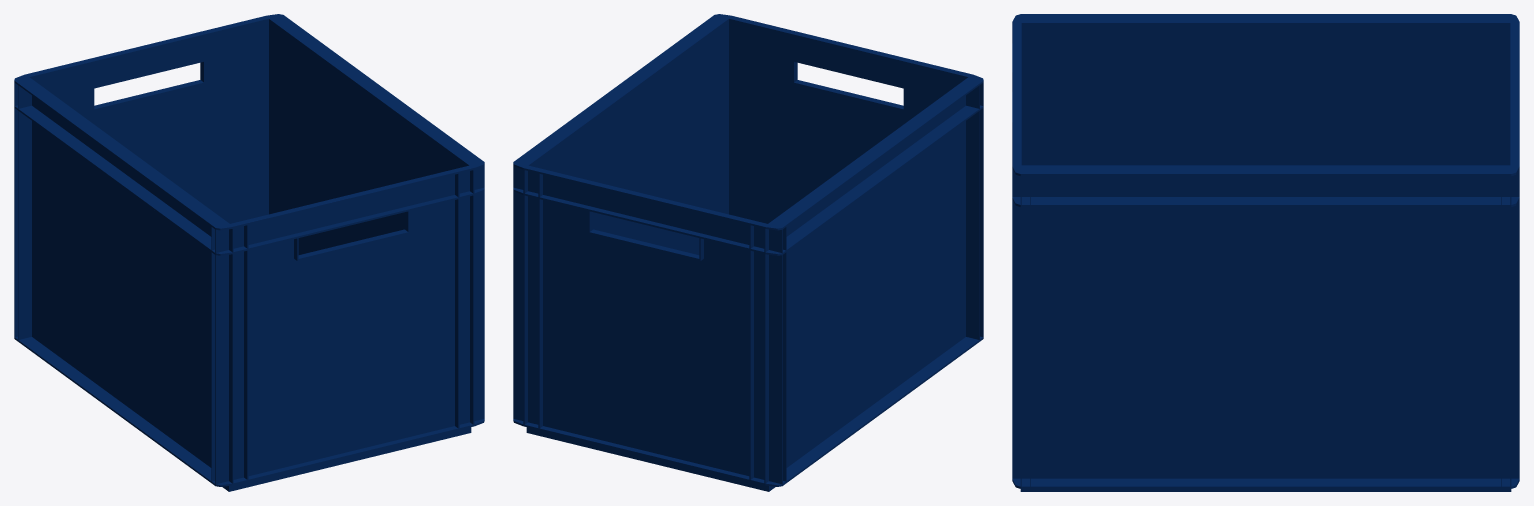
File: EuroContainer_B_metric.dae
3 renders of one model, left to right at view 1: azimuth 30°, elevation 25°; view 2: azimuth 150°, elevation 25°; view 3: azimuth 270°, elevation 25°, orthographic. The views are drawn at different scales.
Visible parts, largest first — view 1: EuroContainer_B; view 2: EuroContainer_B; view 3: EuroContainer_B.
Part boxes in pixels (box(x1,y1,x2,y2)): EuroContainer_B: box(14, 14, 484, 491); EuroContainer_B: box(513, 14, 983, 491); EuroContainer_B: box(1012, 14, 1519, 491).
Bounding box in the file's own units: 0.295 × 0.395 × 0.28.
Materials: 1 (1 with a texture image).
